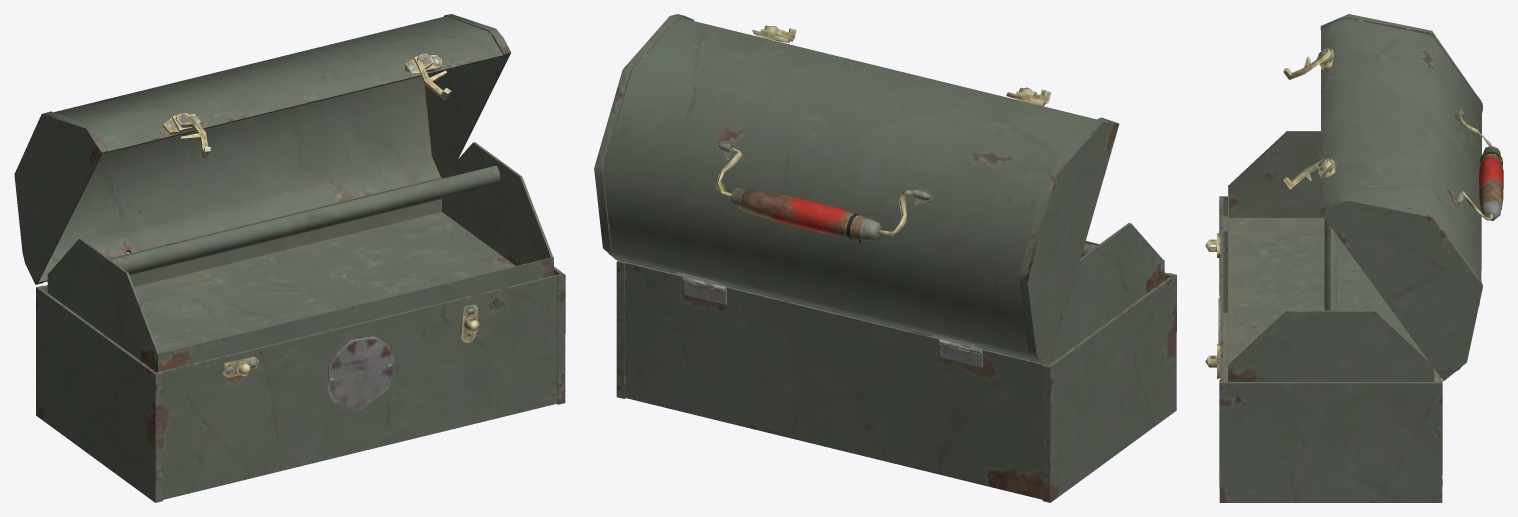
Rendered from metal_toolbox.glb.
3 renders of one model, left to right at view 1: azimuth 30°, elevation 25°; view 2: azimuth 150°, elevation 25°; view 3: azimuth 270°, elevation 25°, orthographic. The views are drawn at different scales.
Parts seen in each view (by area): view 1: metal_toolbox; view 2: metal_toolbox; view 3: metal_toolbox.
Part boxes in pixels (x1,y1,x2,y2): metal_toolbox: (14, 14, 565, 502); metal_toolbox: (594, 14, 1176, 502); metal_toolbox: (1205, 14, 1503, 502).
Size of the model in its own units: 0.4 by 0.3044 by 0.2702.
Materials: 1 (1 with a texture image).
